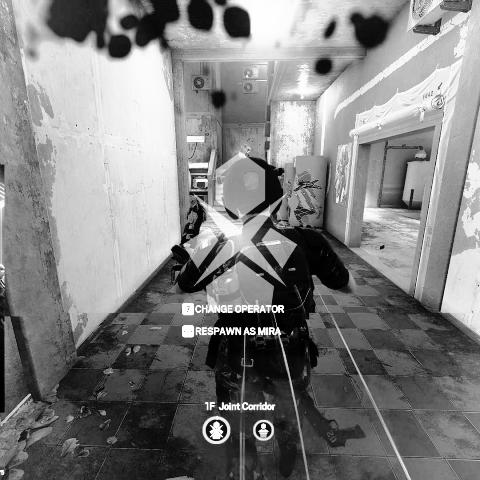Character: (170, 155, 358, 455), (241, 144, 251, 158)
Head: (221, 157, 285, 219), (244, 144, 247, 148)
